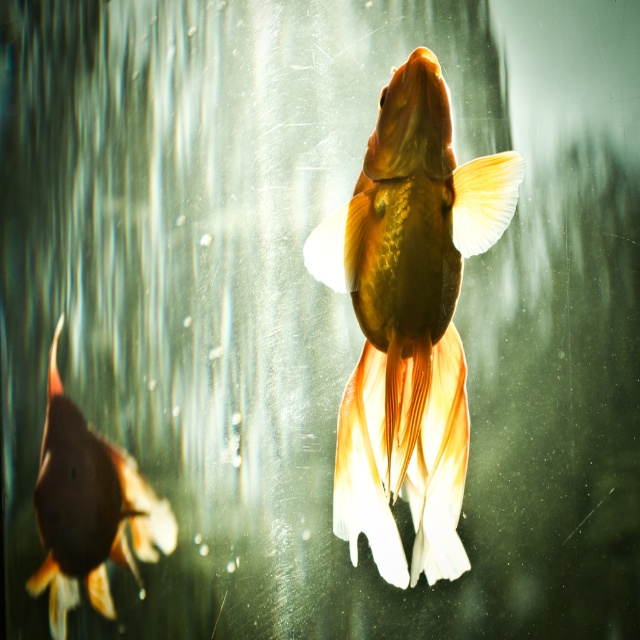Goldfish: (304, 61, 518, 548), (24, 315, 178, 639)
